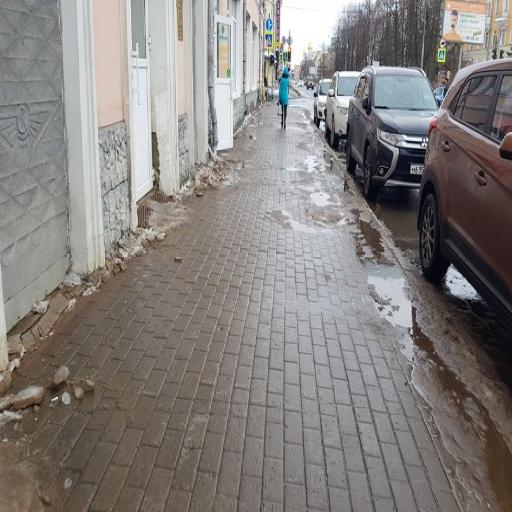bottle: (418, 60, 511, 325), (346, 67, 437, 199), (325, 72, 359, 147)
corridor: (131, 0, 152, 200), (215, 15, 234, 149)
laptop: (279, 66, 289, 128)
shelf: (2, 104, 458, 510)
